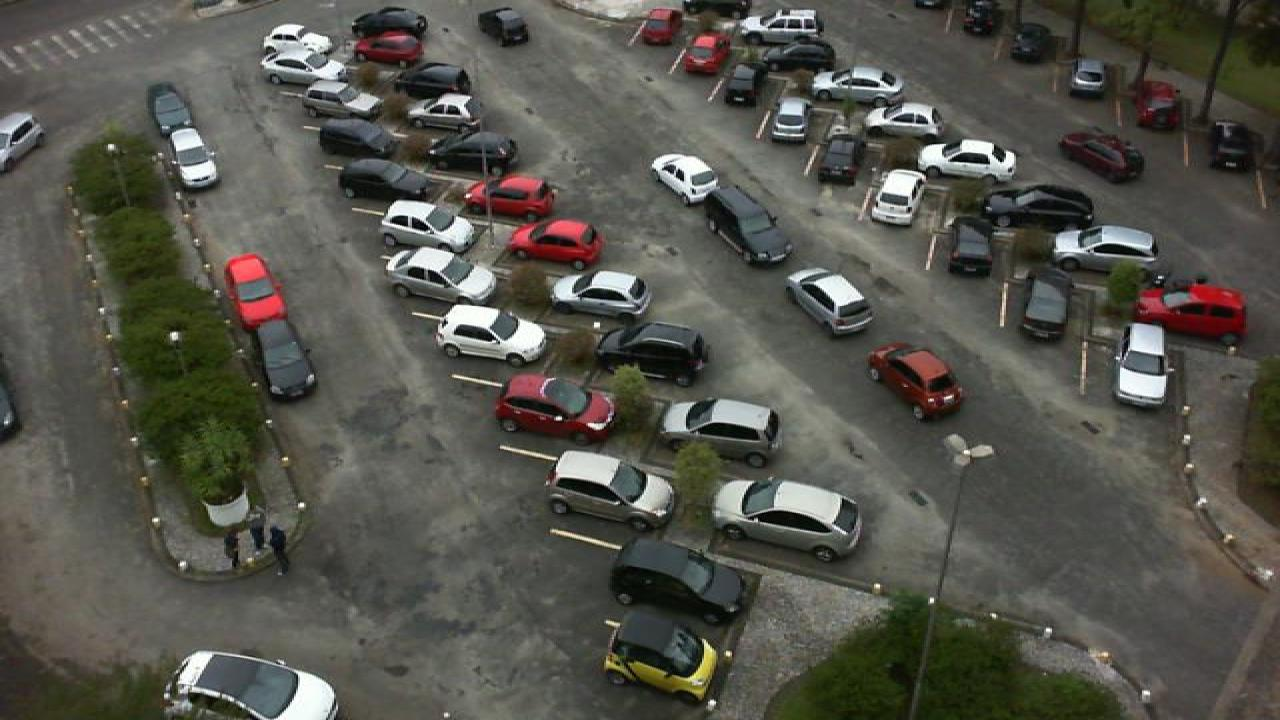Car: (604, 536, 748, 626), (710, 478, 864, 562), (164, 648, 340, 720), (600, 608, 724, 706), (544, 449, 678, 532), (490, 372, 618, 446), (660, 396, 782, 467), (864, 343, 966, 422), (1132, 284, 1252, 348), (696, 189, 792, 267), (432, 302, 552, 364), (596, 322, 712, 386), (382, 247, 502, 305), (782, 266, 876, 338), (1048, 224, 1160, 279), (550, 269, 654, 323), (982, 183, 1096, 232), (250, 318, 318, 400), (502, 217, 604, 270), (1110, 320, 1170, 410), (378, 199, 476, 252), (224, 252, 288, 328), (462, 173, 558, 223), (916, 138, 1016, 184), (1060, 130, 1148, 182), (334, 156, 428, 202), (808, 64, 906, 107), (1016, 268, 1074, 340), (428, 132, 518, 176), (648, 153, 722, 206), (866, 168, 928, 229), (300, 78, 384, 122), (316, 117, 396, 163), (166, 125, 222, 189), (862, 100, 944, 142), (256, 54, 348, 91), (946, 217, 1000, 276), (396, 61, 474, 101), (262, 22, 338, 61), (350, 30, 426, 68), (406, 92, 478, 132), (1130, 79, 1182, 133), (0, 110, 46, 171), (756, 39, 838, 72), (1208, 118, 1258, 171), (146, 82, 194, 134), (816, 130, 862, 184), (348, 7, 428, 38), (714, 62, 766, 109), (766, 96, 814, 146), (676, 32, 730, 76), (740, 10, 820, 38), (476, 7, 530, 48), (1008, 21, 1054, 66), (1066, 56, 1110, 102), (636, 8, 682, 46), (960, 0, 1000, 39), (684, 0, 748, 17)
